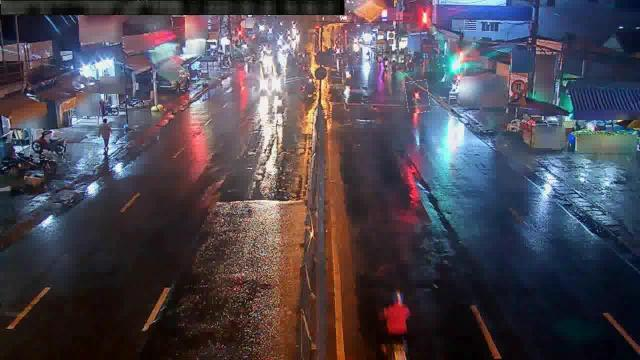Bike: (30, 130, 66, 162), (406, 81, 430, 113), (342, 68, 353, 84)
